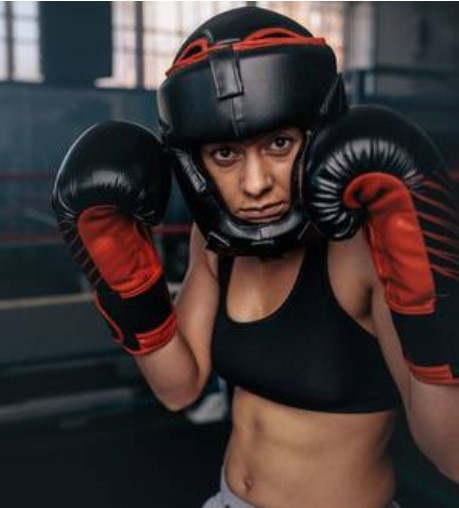face_no_mask: (188, 83, 322, 238)
